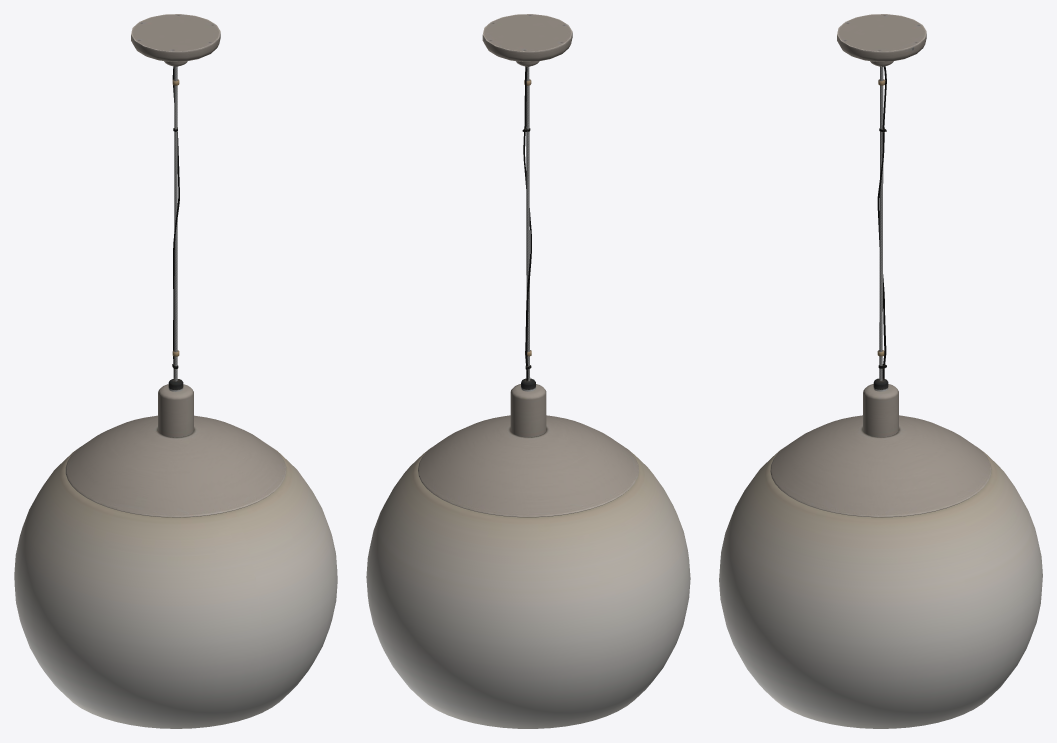
The model's file is modern_ceiling_lamp_01.glb.
3 renders of one model, left to right at view 1: azimuth 30°, elevation 25°; view 2: azimuth 150°, elevation 25°; view 3: azimuth 270°, elevation 25°, orthographic.
Visible parts, largest first — view 1: modern_ceiling_lamp_01; view 2: modern_ceiling_lamp_01; view 3: modern_ceiling_lamp_01.
Boxes of the visible parts, x1=… form: modern_ceiling_lamp_01: x1=14, y1=14, x2=337, y2=728; modern_ceiling_lamp_01: x1=366, y1=14, x2=690, y2=728; modern_ceiling_lamp_01: x1=719, y1=14, x2=1042, y2=728.
Size of the model in its own units: 0.4317 by 0.9516 by 0.4317.
Materials: 3 (3 with a texture image).
